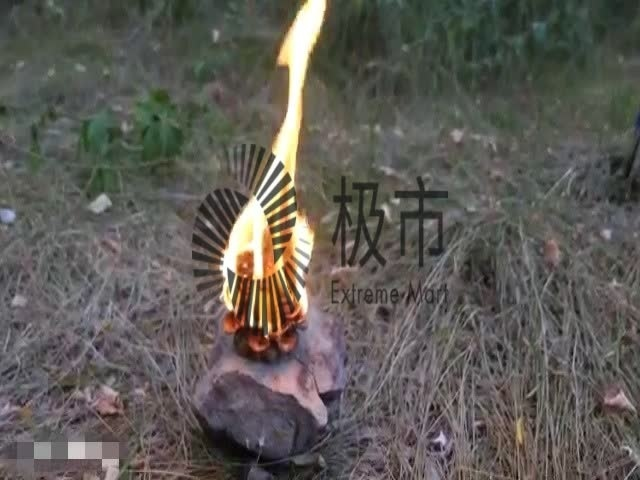fire: (211, 0, 336, 342), (541, 238, 563, 265)
